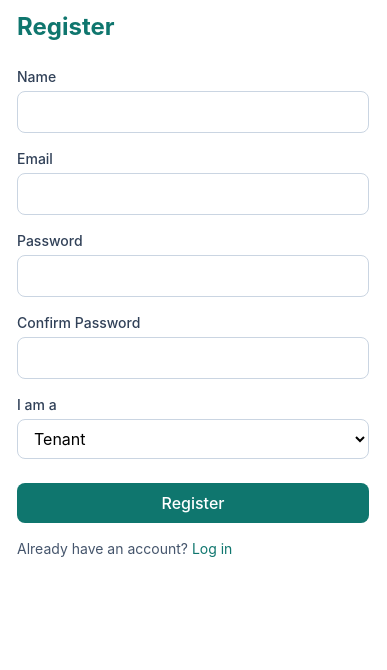
Register page › shows errors and does not register when the form is empty
Click the button "Register" at {"x": 193, "y": 503}, box [17, 483, 369, 523]
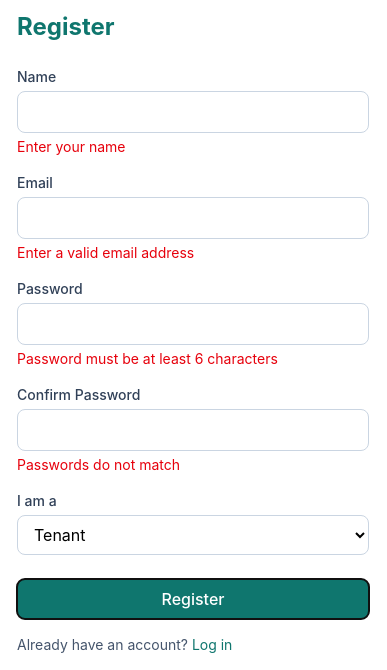
Check: the text "Enter your name" is shown, box [17, 138, 126, 155]
